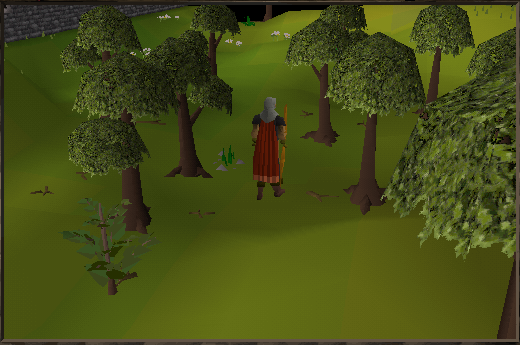Tree: (85, 66, 165, 229), (340, 37, 410, 214), (164, 37, 209, 187), (197, 3, 238, 90)
